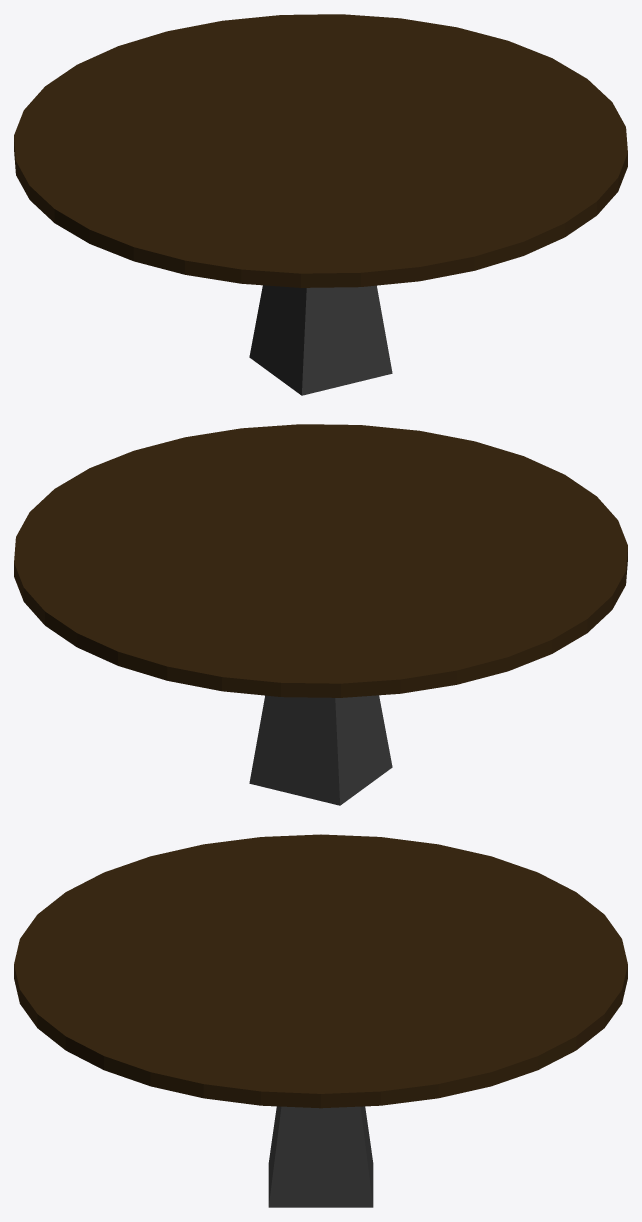
Rendered from (West)Table2WIP.fbx.
The picture shows the model from 3 angles, top to bottom: view 1: azimuth 30°, elevation 25°; view 2: azimuth 150°, elevation 25°; view 3: azimuth 270°, elevation 25°; orthographic projection.
Parts seen in each view (by area): view 1: Table; view 2: Table; view 3: Table.
Boxes of the visible parts, box(x1,y1,x2,y2) form: Table: box(14, 14, 627, 395); Table: box(14, 424, 627, 805); Table: box(14, 834, 627, 1207).
Bounding box in the file's own units: 346 × 138 × 346.
